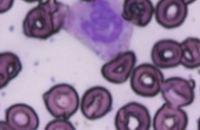N: (62, 0, 134, 62)
